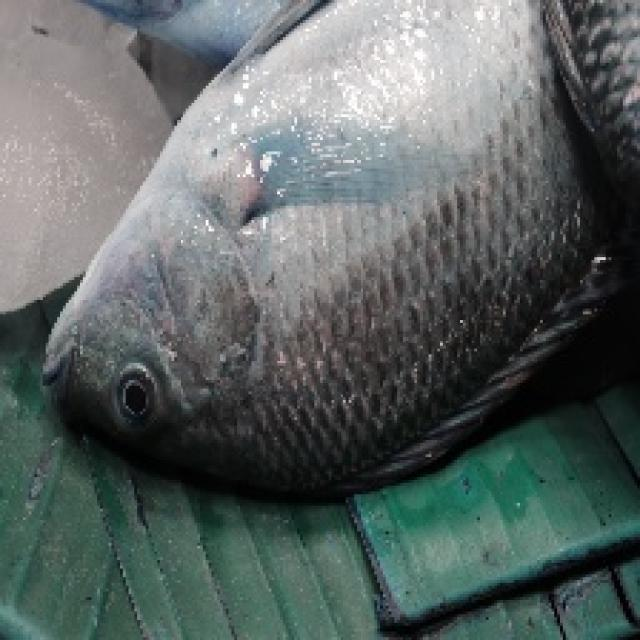Fresh: (34, 30, 640, 471)
